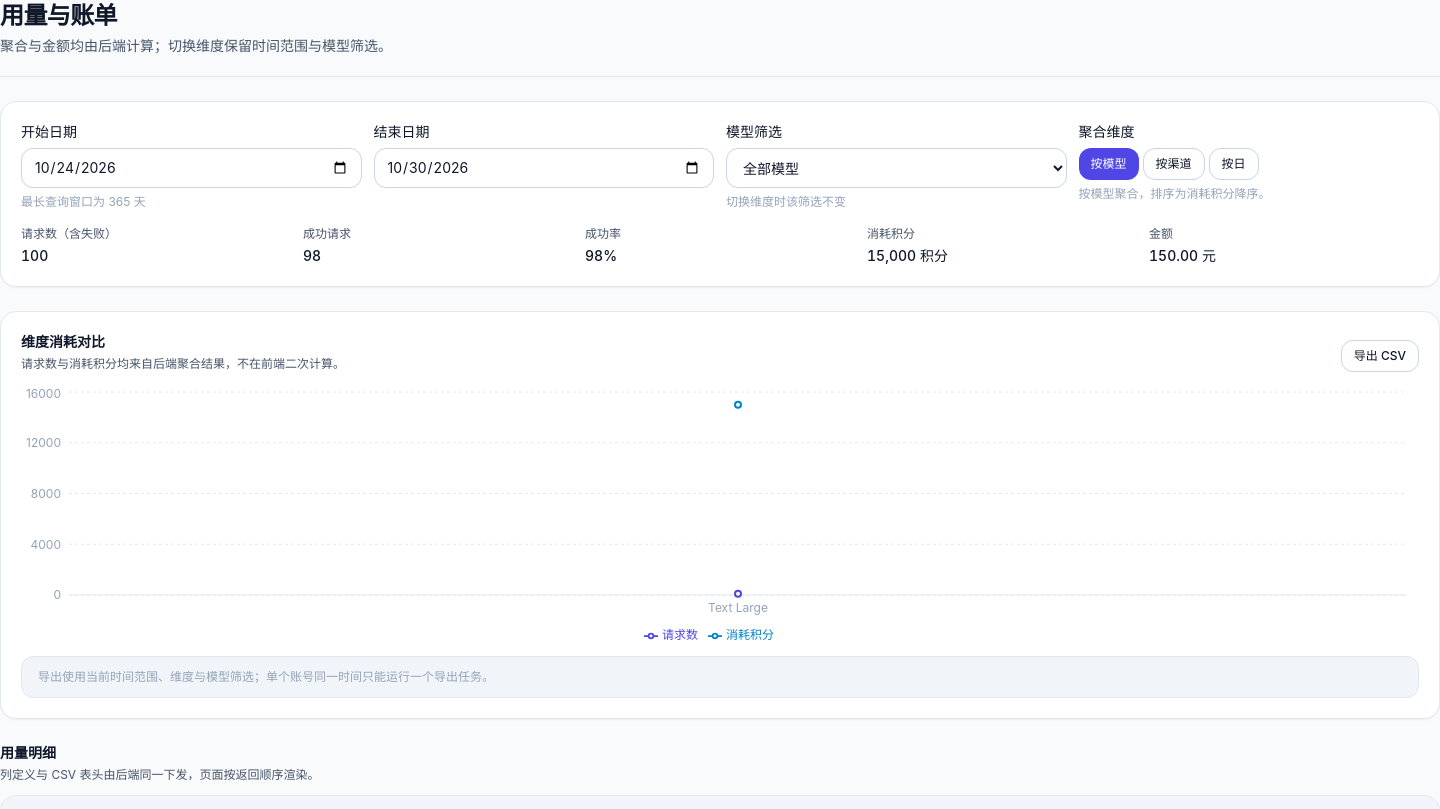
UsagePage › surfaces the backend 409 message and hint verbatim when an export is already running
Click the button "导出 CSV" at (1380,356), box [1341, 340, 1419, 372]
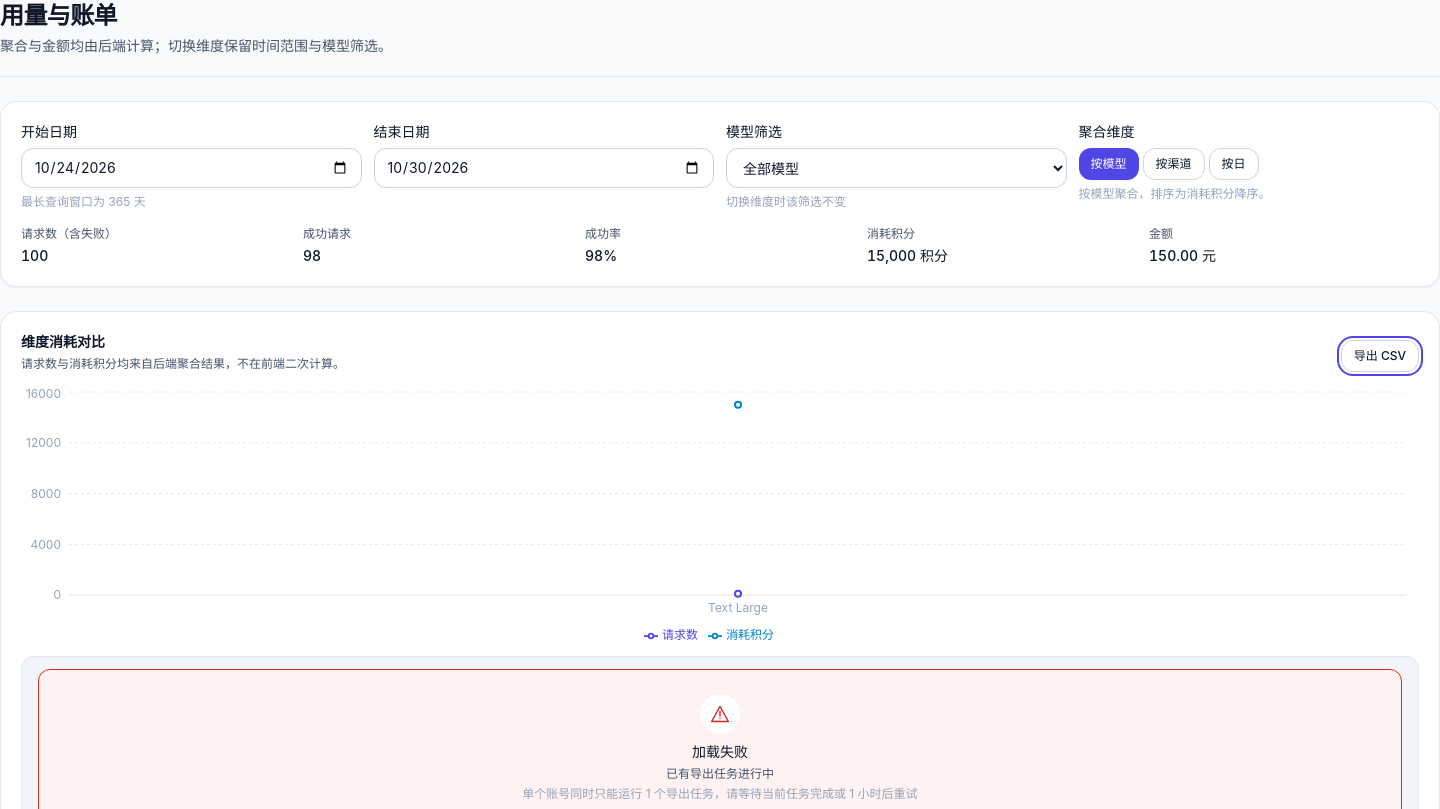
Expected: the text "已有导出任务进行中" is shown, [666, 766, 774, 781]
Expected: the text "单个账号同时只能运行 1 个导出任务，请等待当前任务完成或 1 小时后重试" is shown, [522, 786, 918, 802]
